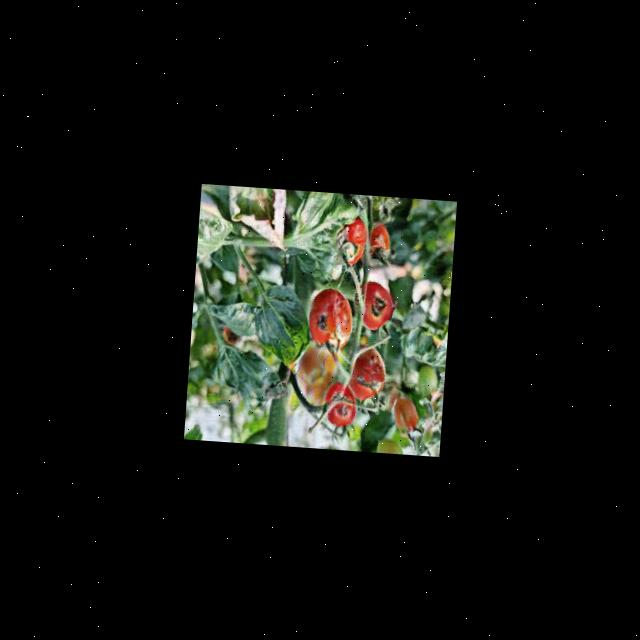tomato: (308, 287, 354, 348), (345, 344, 389, 402), (362, 282, 396, 332), (324, 398, 358, 432), (368, 222, 393, 262)
